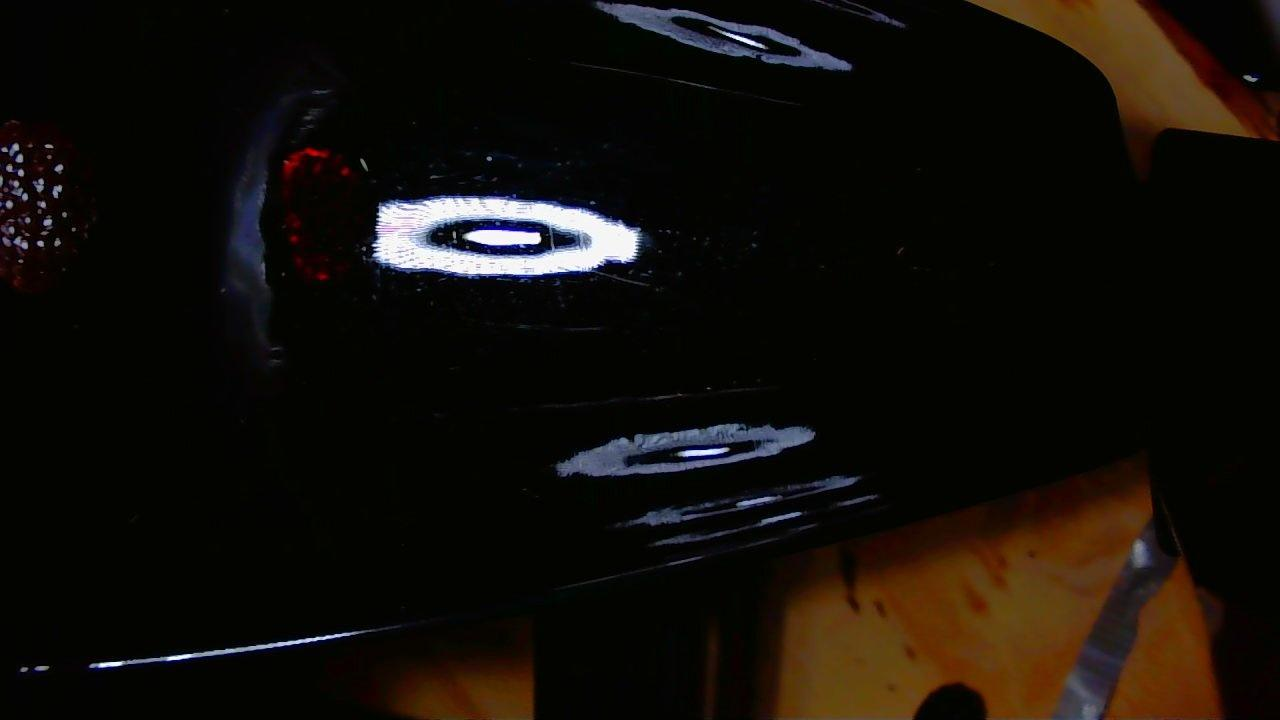berry: (0, 121, 95, 291)
